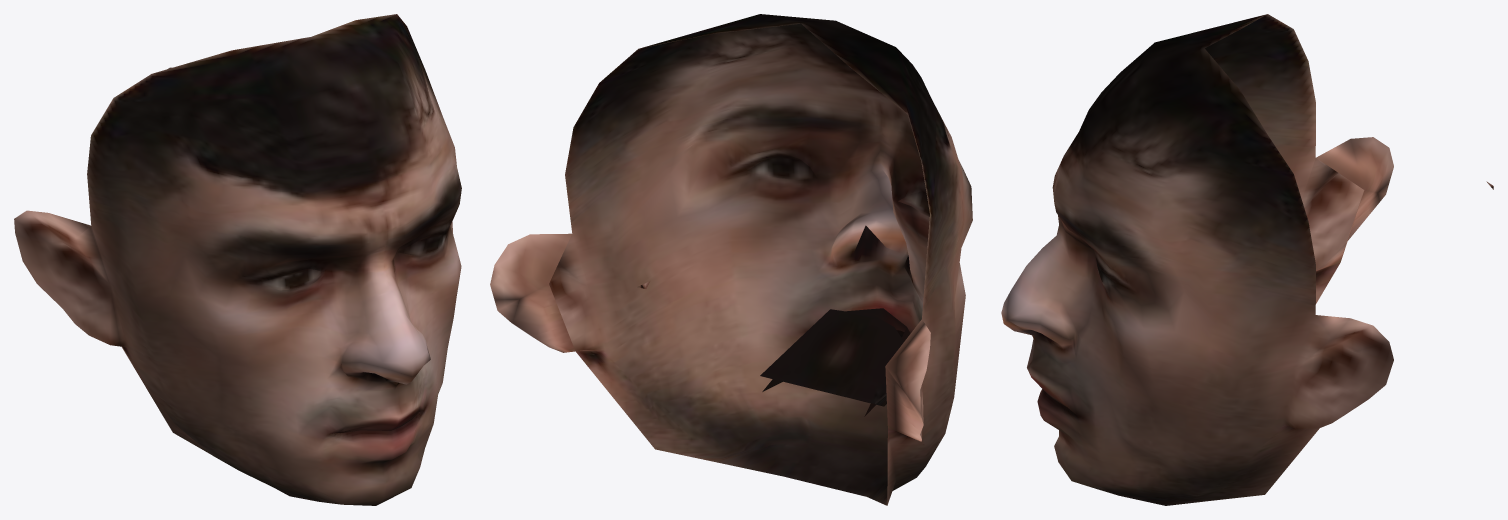
Rendered from esp-pedri.glb.
3 renders of one model, left to right at view 1: azimuth 30°, elevation 25°; view 2: azimuth 150°, elevation 25°; view 3: azimuth 270°, elevation 25°, orthographic. The views are drawn at different scales.
Parts seen in each view (by area): view 1: esp-pedri; view 2: esp-pedri; view 3: esp-pedri.
Boxes of the visible parts, x1,y1,x2,y2 form: esp-pedri: (14,14,461,505); esp-pedri: (490,14,972,505); esp-pedri: (1001,14,1493,505).
Size of the model in its own units: 0.1719 by 0.1808 by 0.1833.
1 material, 1 textured.
